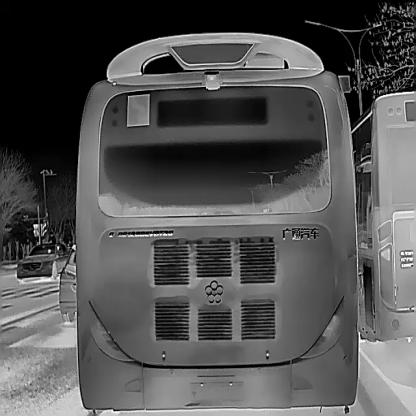bus: (71, 26, 359, 412), (350, 89, 416, 343)
car: (15, 241, 69, 283), (58, 243, 76, 321)
